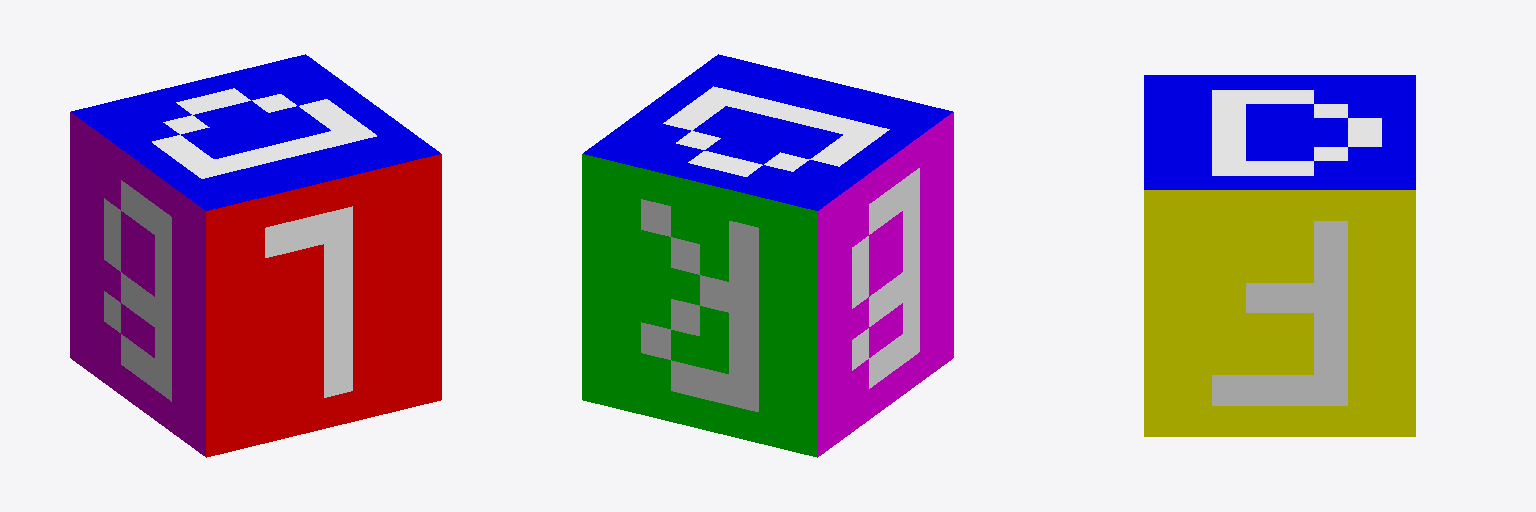
3 views of the same model, side by side, from view 1: azimuth 30°, elevation 25°; view 2: azimuth 150°, elevation 25°; view 3: azimuth 270°, elevation 25° (orthographic).
Visible parts, largest first — view 1: Cube; view 2: Cube; view 3: Cube.
Part boxes in pixels (x1,y1,x2,y2): Cube: (70,54,441,457); Cube: (582,54,953,457); Cube: (1144,75,1415,436).
Size of the model in its own units: 2 by 2 by 2.
1 materials, 1 textured.